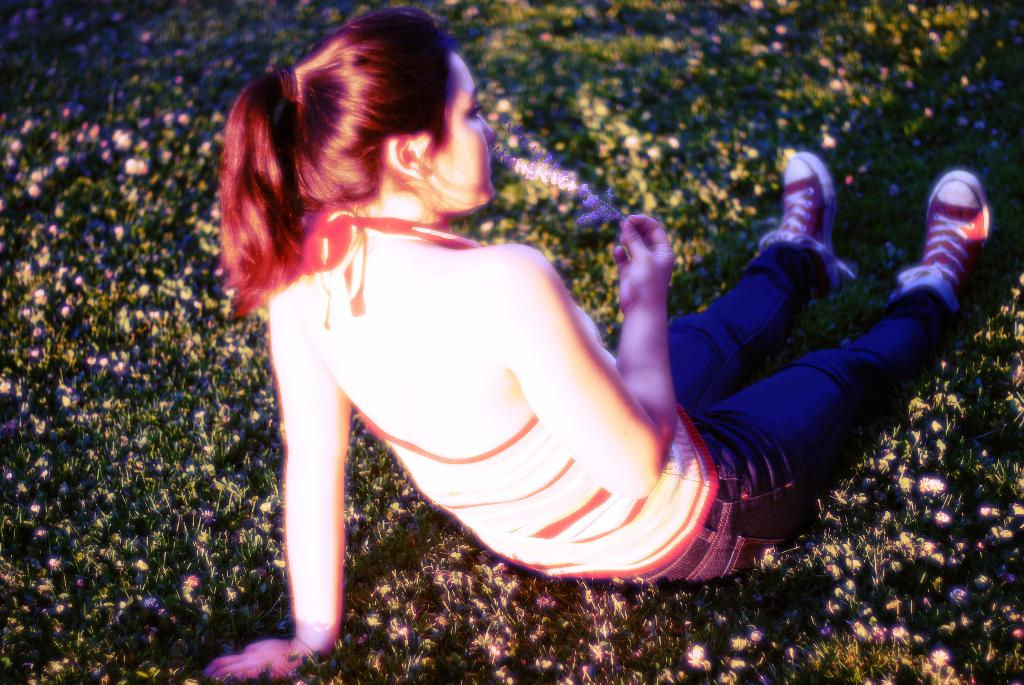Human-face: (420, 51, 496, 217)
